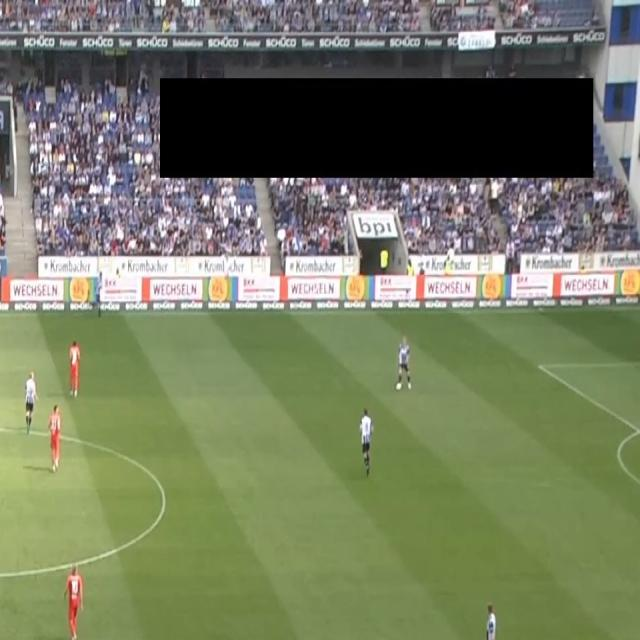ball: (396, 380, 402, 391)
